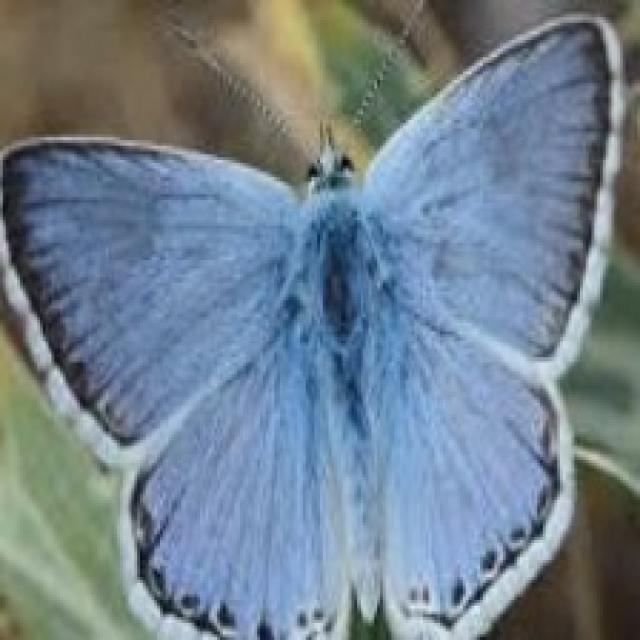butterfly: (0, 9, 629, 637)
